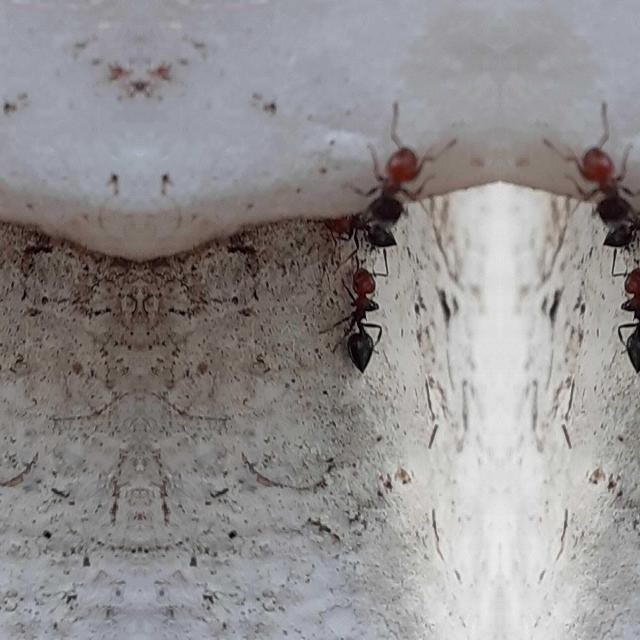Crematogaster: (336, 256, 392, 380), (350, 134, 422, 216), (575, 133, 640, 216), (606, 255, 640, 380), (319, 207, 399, 253), (599, 207, 640, 253)
